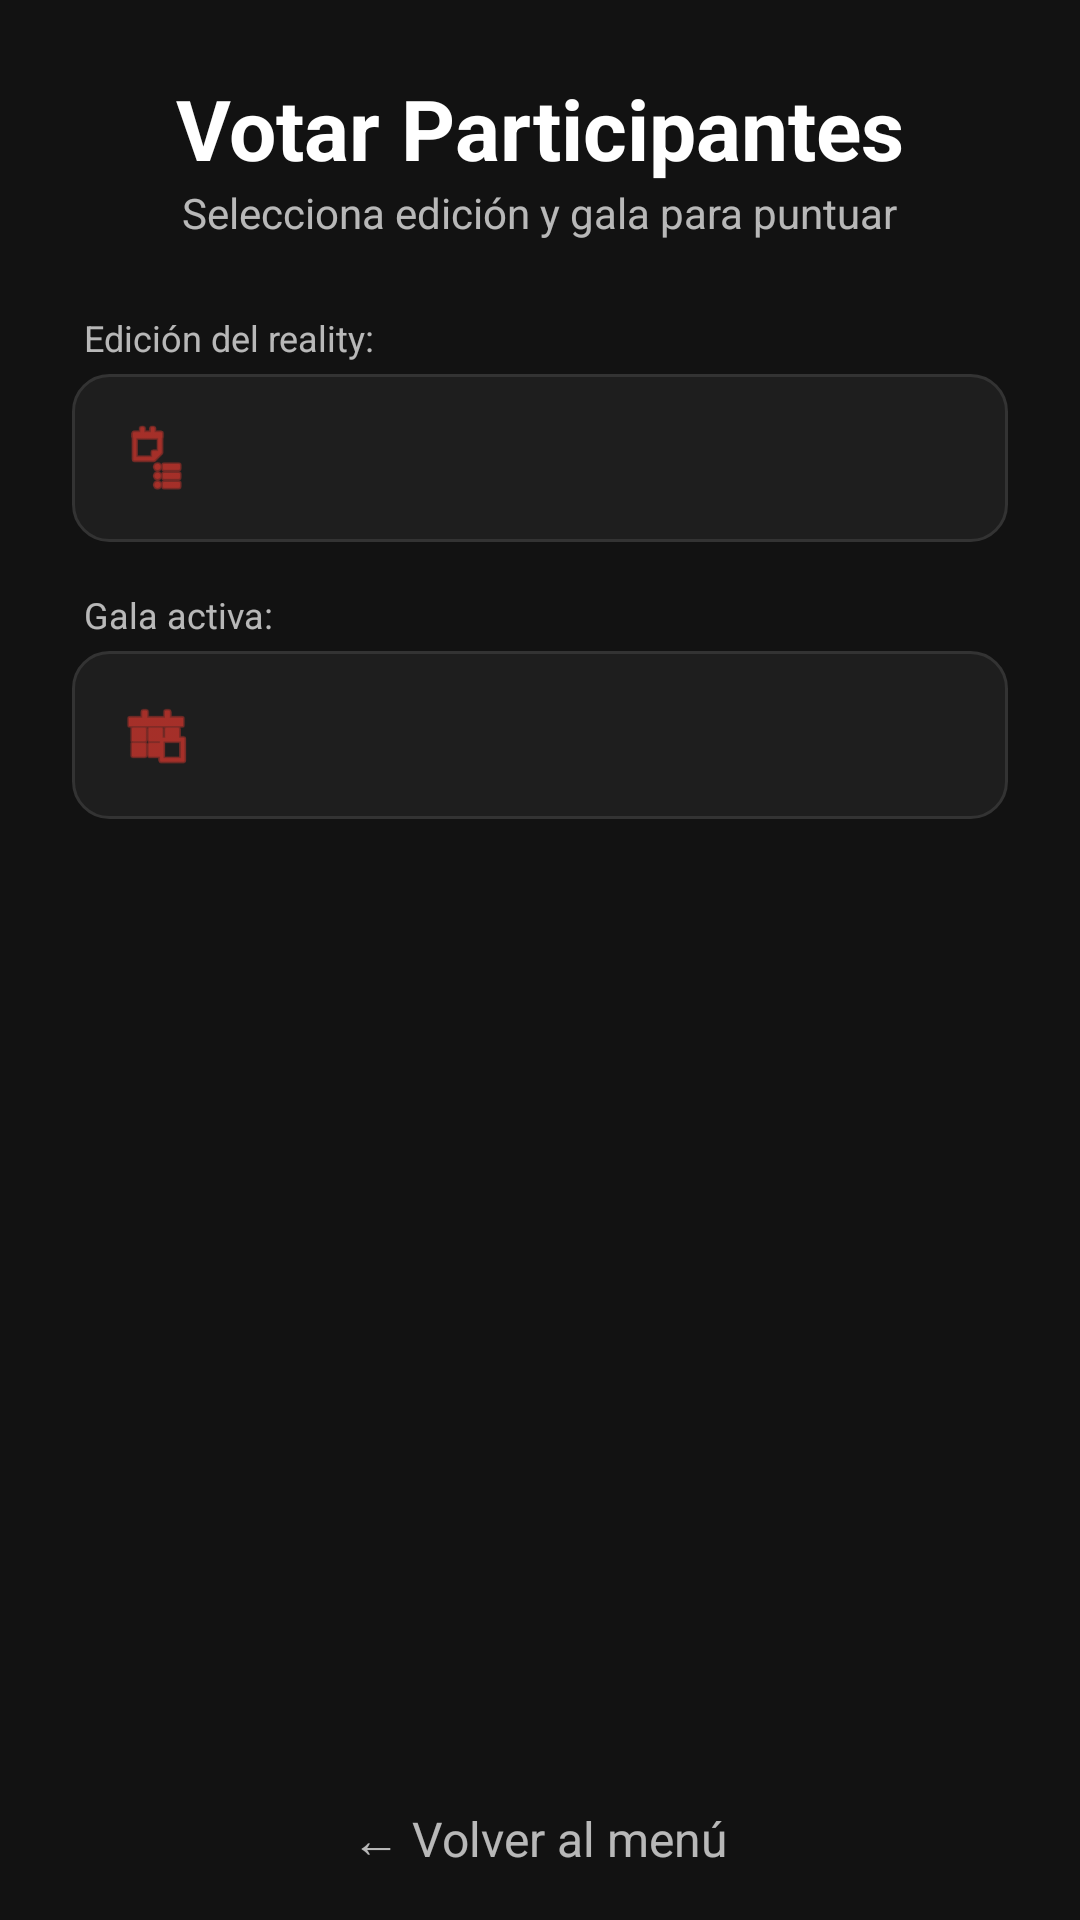

Icon click points for this 1080px×1920px phone screenshot, format (x=x, y=y):
agenda: (x=156, y=458)
today: (x=156, y=736)
